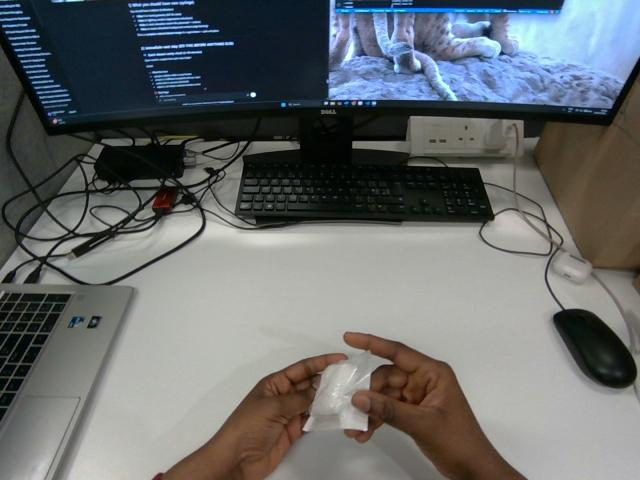gauze: (303, 351, 373, 431)
